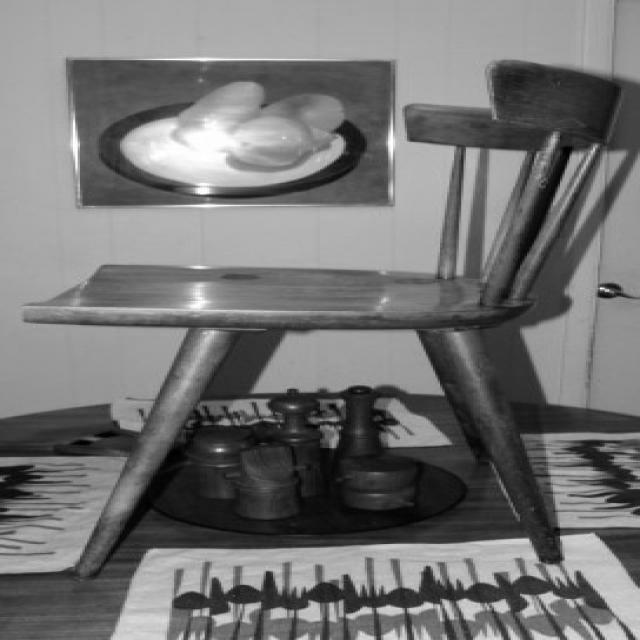chair: (21, 59, 626, 578)
